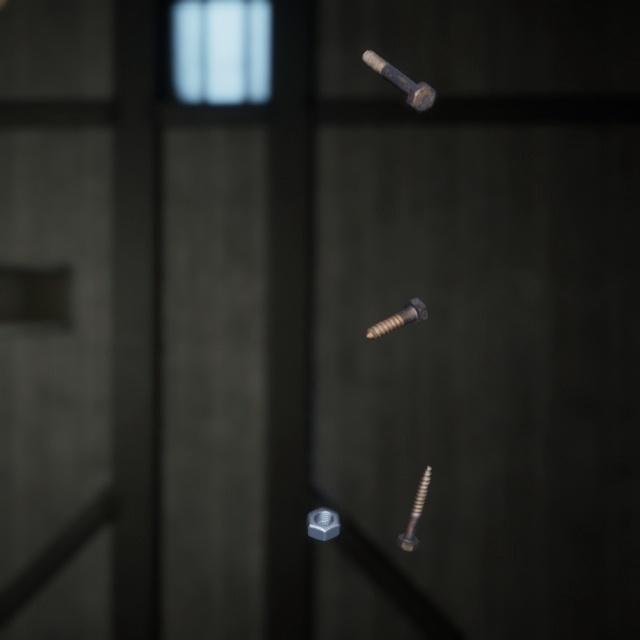bolt: (357, 36, 440, 107), (391, 440, 435, 535), (361, 276, 432, 327)
nut: (304, 481, 346, 522)
